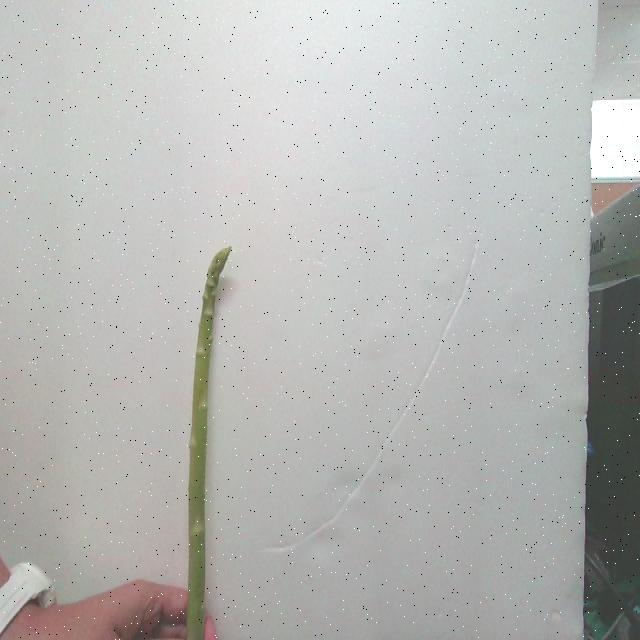aspargus: (184, 247, 231, 640)
